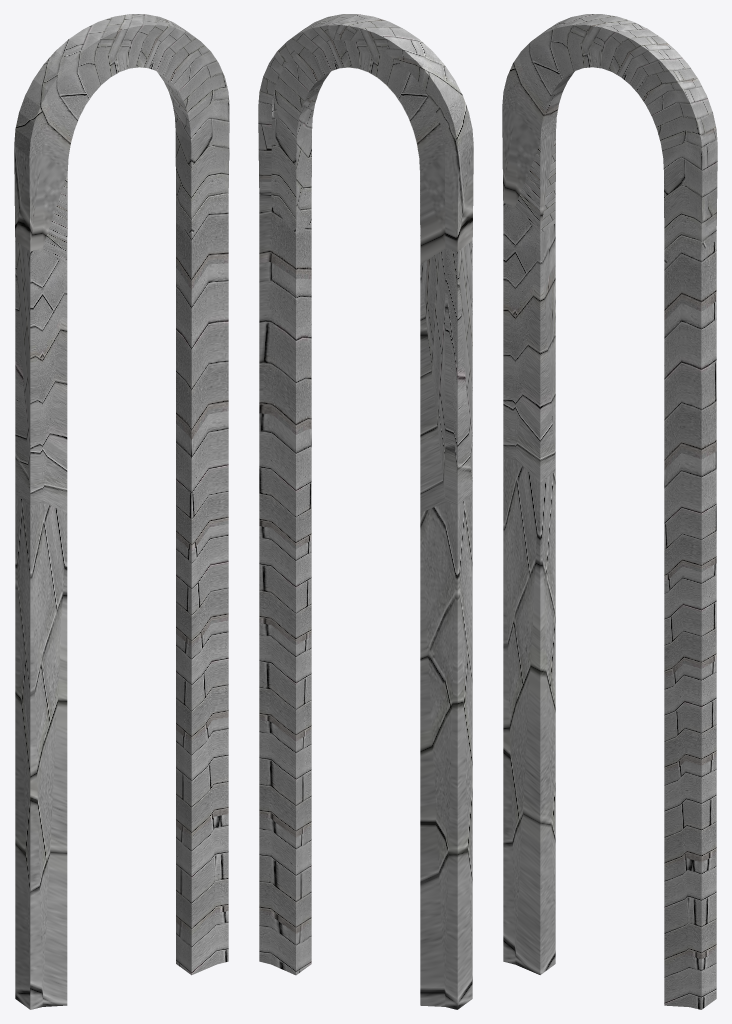
Rendered from arch.obj.
The picture shows the model from 3 angles, left to right: view 1: azimuth 30°, elevation 25°; view 2: azimuth 150°, elevation 25°; view 3: azimuth 330°, elevation 25°; orthographic projection.
Visible parts, largest first — view 1: Cube; view 2: Cube; view 3: Cube.
Boxes of the visible parts, x1,y1,x2,y2 form: Cube: (14, 14, 229, 1009); Cube: (258, 14, 473, 1009); Cube: (502, 14, 717, 1009).
Size of the model in its own units: 15.22 by 69.86 by 2.04.
